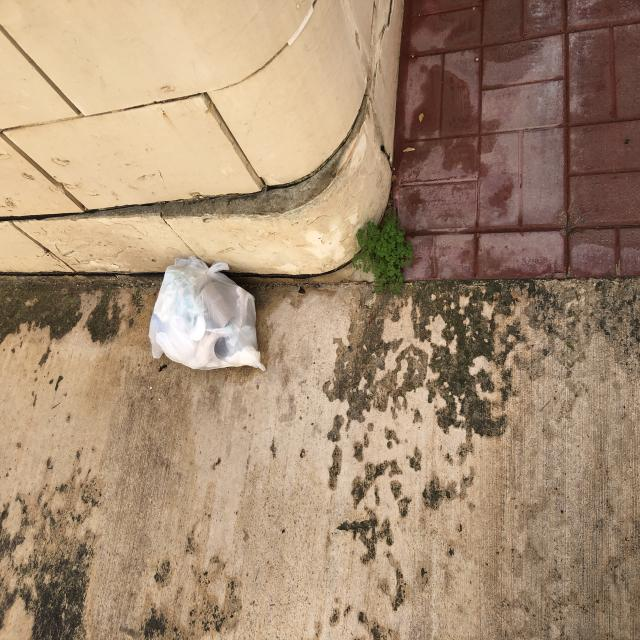Organic Waste -White Bag-: (141, 251, 275, 387)
